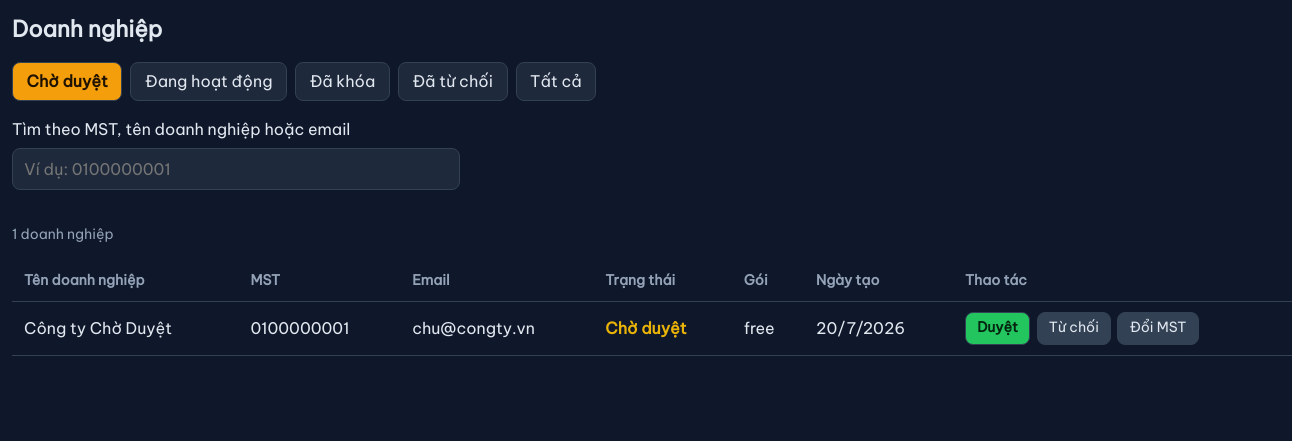
Test case: Xác nhận & lỗi › 404 → báo không tìm thấy
What coordinates should you click on to do the following:
click the button "Duyệt"
I would click on:
 (998, 328)
Its box is left=965, top=312, right=1030, bottom=345.
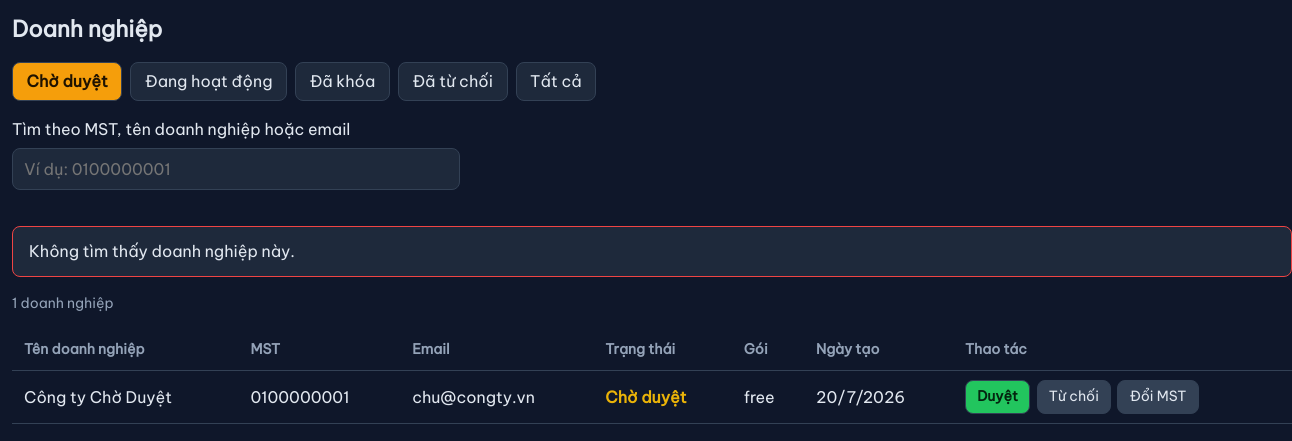
Result: the message shows "Không tìm thấy" at left=29, top=242, right=295, bottom=262
